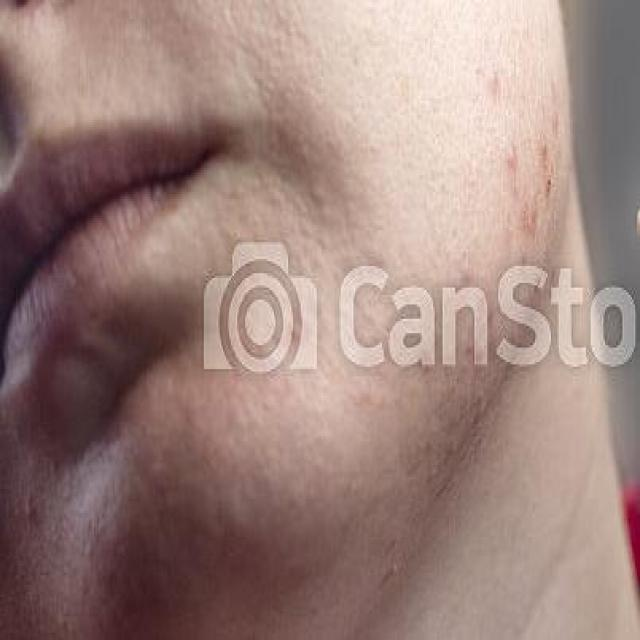Pimples: (538, 134, 559, 197), (484, 62, 502, 101), (520, 194, 538, 228), (504, 134, 520, 168)
